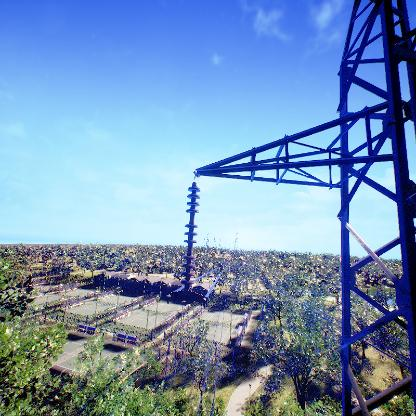insulator: (179, 185, 202, 287)
